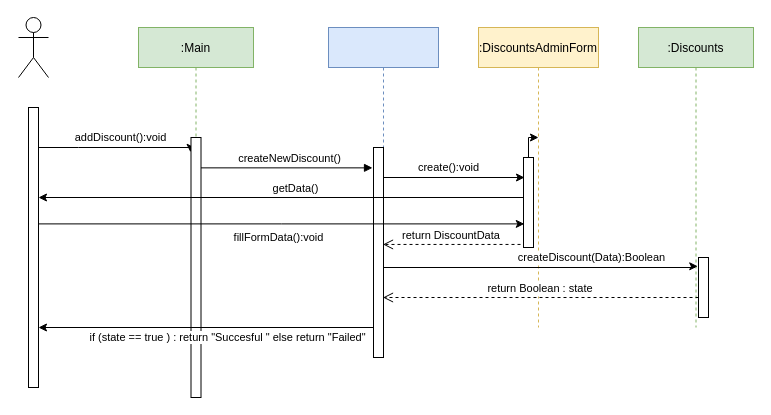
This 771x415 diagram has some shape labels left out. Each missing label, with the centre of its shape:
:Discountscontroller: (x=383, y=192)
admin: (x=33, y=47)
